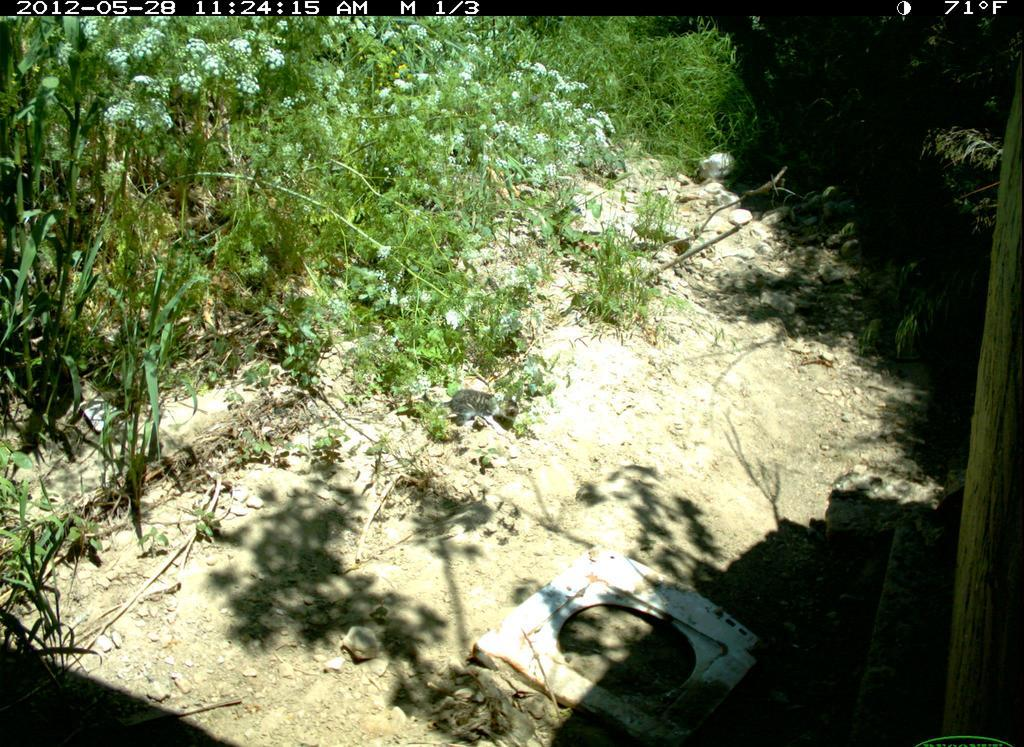cat: (418, 380, 526, 434)
